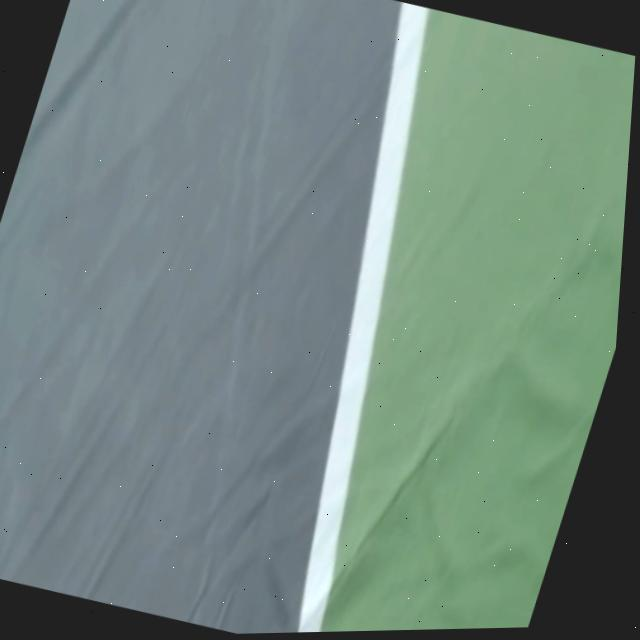right: (297, 1, 427, 632)
